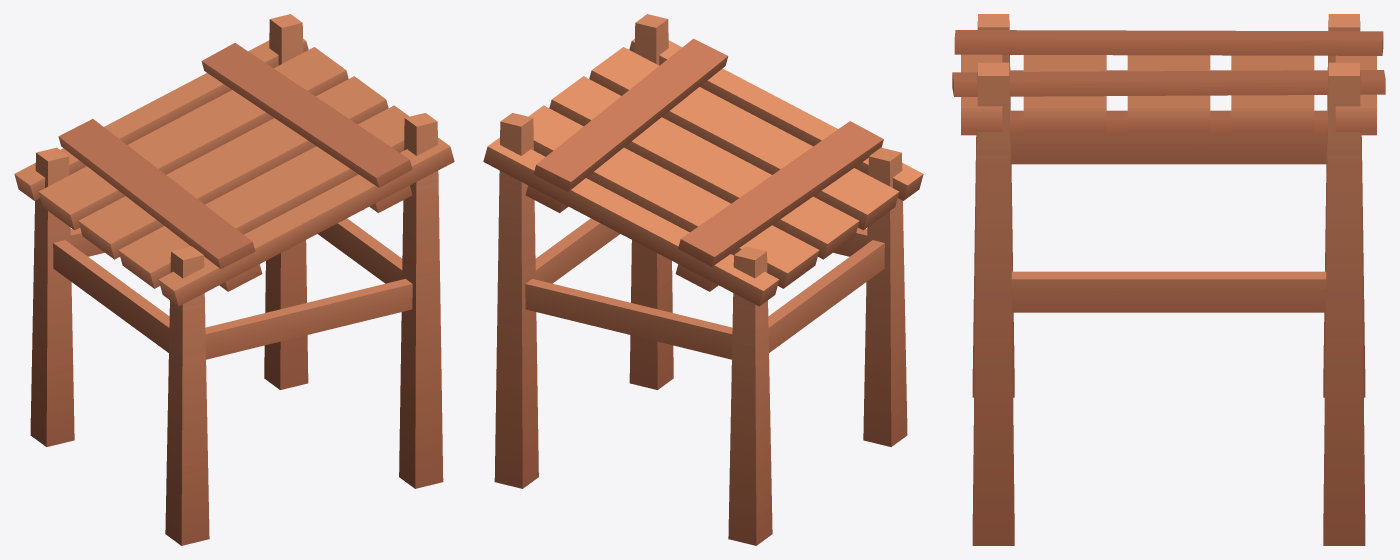
File: kenney-survival-structure-roof.glb
3 renders of one model, left to right at view 1: azimuth 30°, elevation 25°; view 2: azimuth 150°, elevation 25°; view 3: azimuth 270°, elevation 25°, orthographic. The views are drawn at different scales.
Visible parts, largest first — view 1: Group, structure-roof; view 2: Group, structure-roof; view 3: structure-roof, Group.
Part boxes in pixels (bbox=[...]): Group: bbox=[14, 38, 454, 306]; structure-roof: bbox=[30, 14, 443, 545]; Group: bbox=[483, 38, 923, 306]; structure-roof: bbox=[494, 14, 907, 545]; structure-roof: bbox=[972, 14, 1365, 545]; Group: bbox=[952, 30, 1385, 135].
Size of the model in its own units: 0.5355 by 0.6572 by 0.5519.
Materials: 1 (1 with a texture image).
